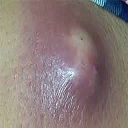Carbuncle: (43, 17, 110, 98)
